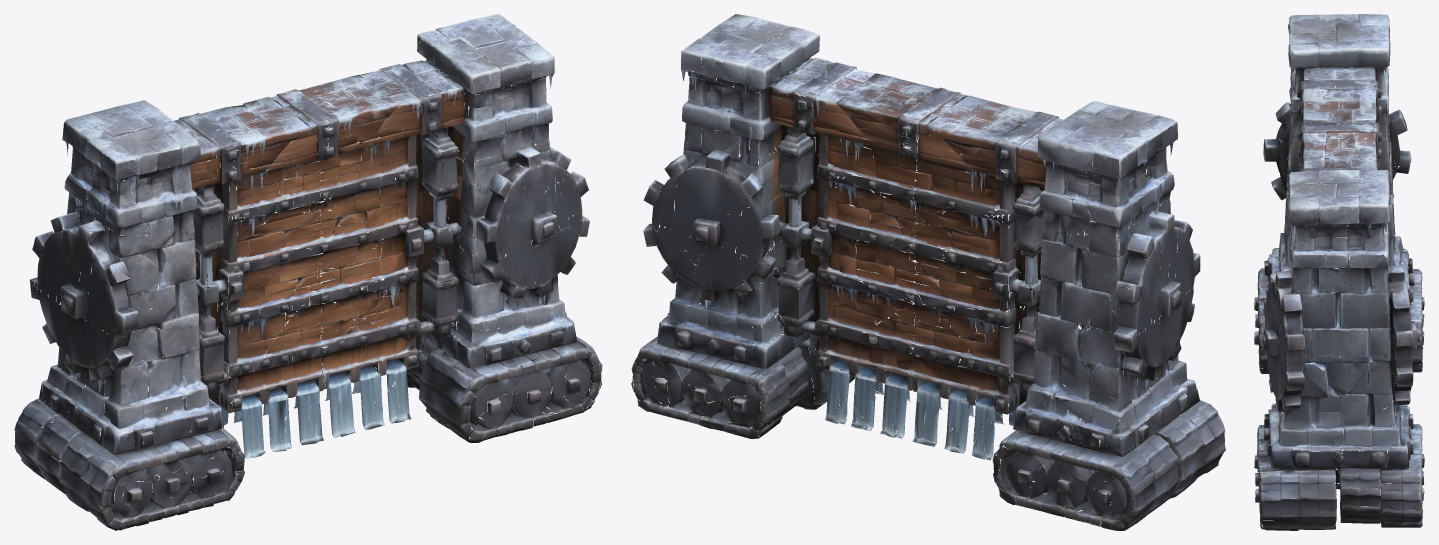
File: floodgate.glb
The picture shows the model from 3 angles, left to right: view 1: azimuth 30°, elevation 25°; view 2: azimuth 150°, elevation 25°; view 3: azimuth 270°, elevation 25°; orthographic projection. The views are drawn at different scales.
Visible parts, largest first — view 1: tripo_node_a0350ea6-2c73-435b-ac1b-5e7f435467b1; view 2: tripo_node_a0350ea6-2c73-435b-ac1b-5e7f435467b1; view 3: tripo_node_a0350ea6-2c73-435b-ac1b-5e7f435467b1.
Part boxes in pixels (x1=…): tripo_node_a0350ea6-2c73-435b-ac1b-5e7f435467b1: x1=14, y1=14, x2=602, y2=530; tripo_node_a0350ea6-2c73-435b-ac1b-5e7f435467b1: x1=631, y1=14, x2=1225, y2=530; tripo_node_a0350ea6-2c73-435b-ac1b-5e7f435467b1: x1=1254, y1=14, x2=1424, y2=530.
Size of the model in its own units: 0.9802 by 0.6636 by 0.3169.
Materials: 1 (1 with a texture image).
